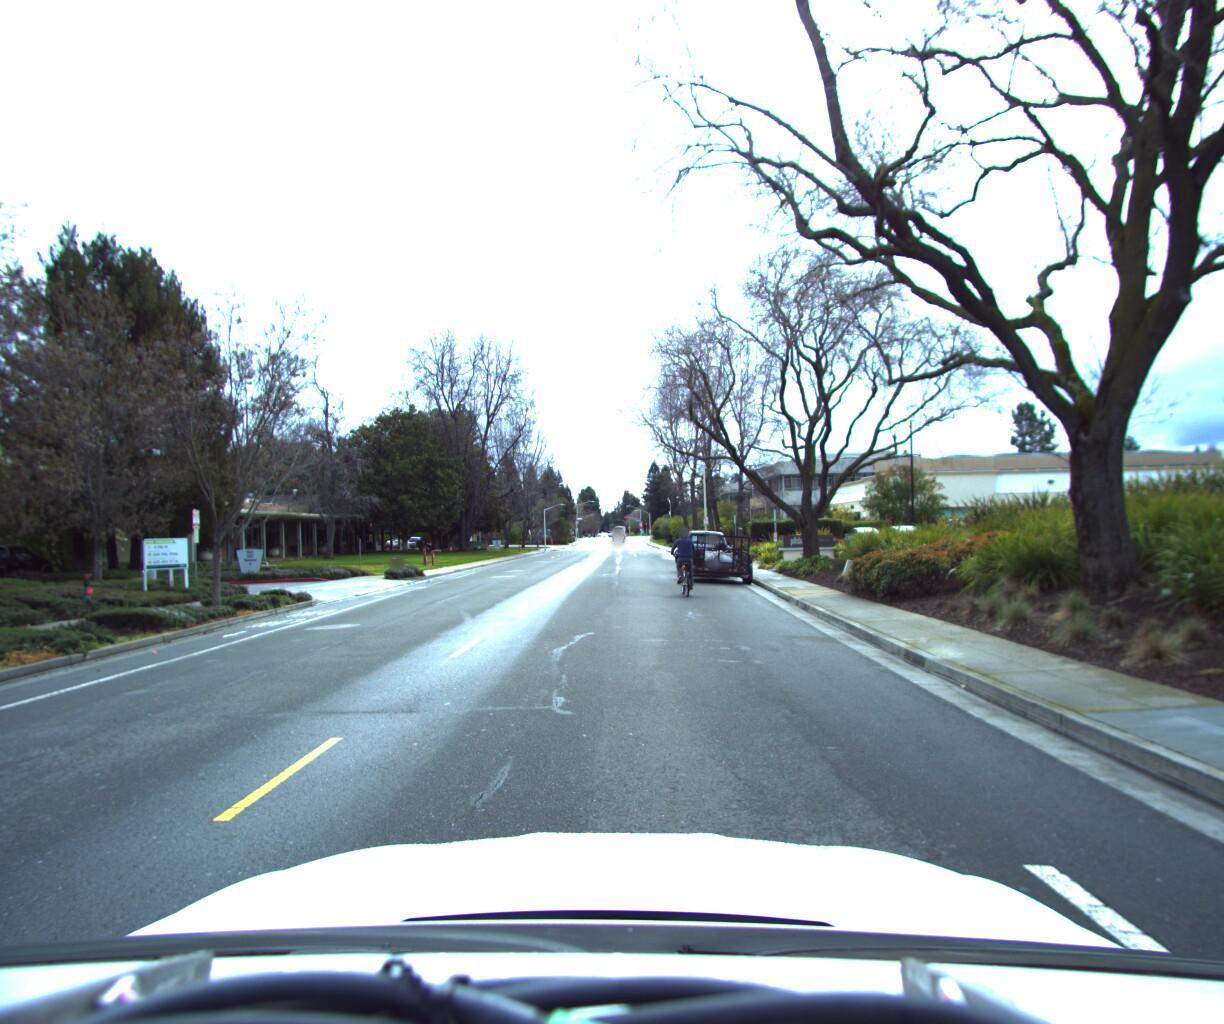bicycle: (665, 524, 706, 597)
car: (672, 523, 763, 581)
